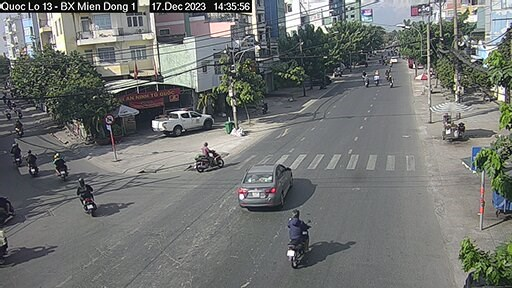car: (241, 162, 295, 206), (152, 110, 215, 134)
motorbike: (282, 214, 313, 263), (198, 142, 221, 174), (78, 179, 98, 213), (47, 151, 67, 180)
